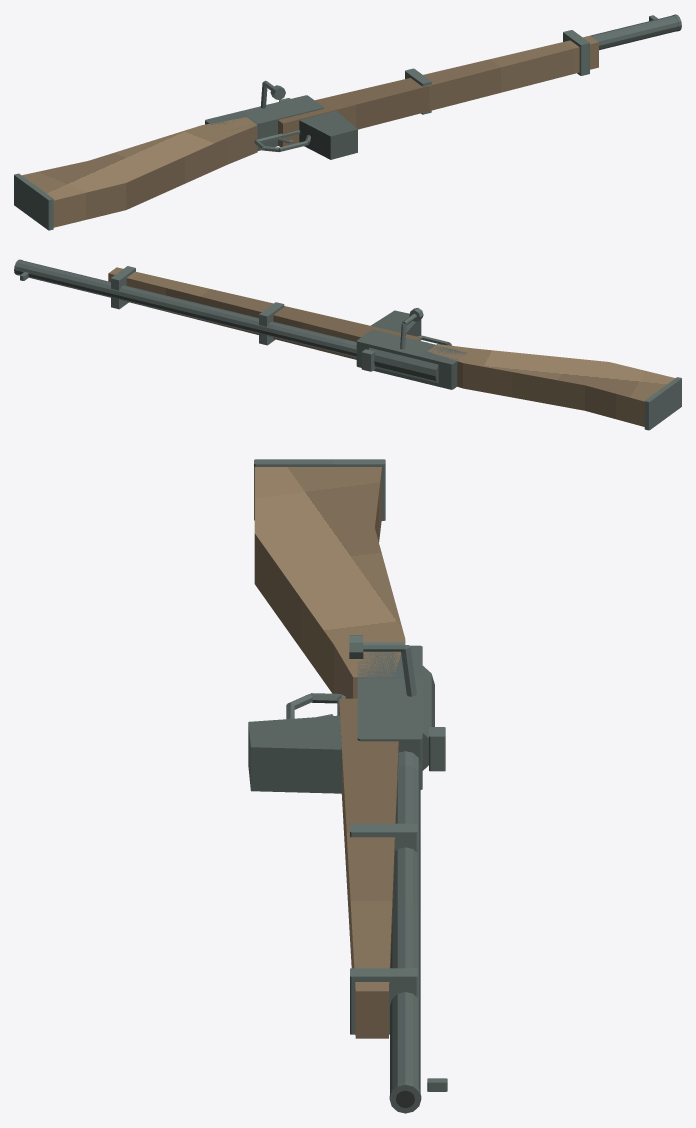
The model's file is weapon-lee-enfield.glb.
The picture shows the model from 3 angles, top to bottom: view 1: azimuth 30°, elevation 25°; view 2: azimuth 150°, elevation 25°; view 3: azimuth 270°, elevation 25°; orthographic projection. The views are drawn at different scales.
Visible parts, largest first — view 1: weapon-lee-enfield/shaped-solid-butt, weapon-lee-enfield/tapered-full-depth-forend, weapon-lee-enfield/box-magazine, weapon-lee-enfield/central-receiver, weapon-lee-enfield/long-barrel, weapon-lee-enfield/butt-end-plate, weapon-lee-enfield/stock-band-1; view 2: weapon-lee-enfield/shaped-solid-butt, weapon-lee-enfield/long-barrel, weapon-lee-enfield/tapered-full-depth-forend, weapon-lee-enfield/central-receiver, weapon-lee-enfield/receiver-top-cylinder, weapon-lee-enfield/butt-end-plate, weapon-lee-enfield/box-magazine, weapon-lee-enfield/stock-band-1, weapon-lee-enfield/stock-band-0, weapon-lee-enfield/rear-sight; view 3: weapon-lee-enfield/shaped-solid-butt, weapon-lee-enfield/tapered-full-depth-forend, weapon-lee-enfield/long-barrel, weapon-lee-enfield/box-magazine, weapon-lee-enfield/central-receiver, weapon-lee-enfield/stock-band-1, weapon-lee-enfield/butt-end-plate, weapon-lee-enfield/stock-band-0, weapon-lee-enfield/receiver-top-cylinder.
Boxes of the visible parts, x1,y1,x2,y2 form: weapon-lee-enfield/shaped-solid-butt: (22, 117, 257, 227); weapon-lee-enfield/tapered-full-depth-forend: (278, 35, 598, 146); weapon-lee-enfield/box-magazine: (299, 111, 357, 159); weapon-lee-enfield/central-receiver: (205, 95, 323, 150); weapon-lee-enfield/long-barrel: (590, 15, 678, 50); weapon-lee-enfield/butt-end-plate: (14, 173, 53, 230); weapon-lee-enfield/stock-band-1: (563, 30, 589, 75); weapon-lee-enfield/shaped-solid-butt: (427, 344, 675, 426); weapon-lee-enfield/long-barrel: (17, 260, 356, 357); weapon-lee-enfield/tapered-full-depth-forend: (108, 267, 420, 359); weapon-lee-enfield/central-receiver: (356, 329, 467, 389); weapon-lee-enfield/receiver-top-cylinder: (368, 347, 438, 383); weapon-lee-enfield/butt-end-plate: (644, 377, 681, 430); weapon-lee-enfield/box-magazine: (371, 310, 421, 336); weapon-lee-enfield/stock-band-1: (111, 266, 135, 309); weapon-lee-enfield/stock-band-0: (259, 302, 284, 345); weapon-lee-enfield/rear-sight: (361, 349, 375, 371); weapon-lee-enfield/shaped-solid-butt: (254, 467, 405, 698); weapon-lee-enfield/tapered-full-depth-forend: (339, 698, 398, 1038); weapon-lee-enfield/long-barrel: (390, 751, 420, 1093); weapon-lee-enfield/box-magazine: (248, 715, 341, 793); weapon-lee-enfield/central-receiver: (357, 645, 422, 789); weapon-lee-enfield/stock-band-1: (350, 968, 417, 1034); weapon-lee-enfield/butt-end-plate: (254, 459, 385, 520); weapon-lee-enfield/stock-band-0: (350, 823, 417, 852); weapon-lee-enfield/receiver-top-cylinder: (422, 666, 434, 770).
Size of the model in its own units: 1.13 by 0.1 by 0.156.
Materials: 3 (3 with a texture image).
